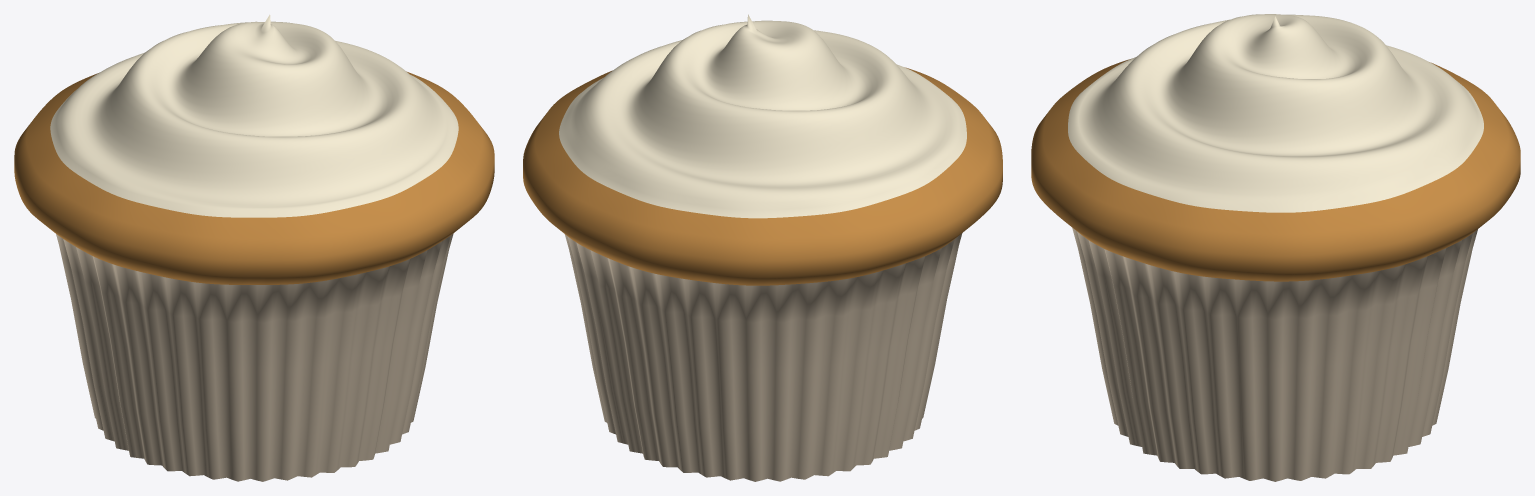
3 views of the same model, side by side, from view 1: azimuth 30°, elevation 25°; view 2: azimuth 150°, elevation 25°; view 3: azimuth 270°, elevation 25° (orthographic). The views are drawn at different scales.
Parts seen in each view (by area): view 1: NEW336_WholeCupcake_LOD0; view 2: NEW336_WholeCupcake_LOD0; view 3: NEW336_WholeCupcake_LOD0.
Part boxes in pixels (x1,y1,x2,y2): NEW336_WholeCupcake_LOD0: (14, 14, 494, 481); NEW336_WholeCupcake_LOD0: (523, 14, 1002, 481); NEW336_WholeCupcake_LOD0: (1031, 14, 1520, 481).
Size of the model in its own units: 0.08 by 0.073 by 0.08.
